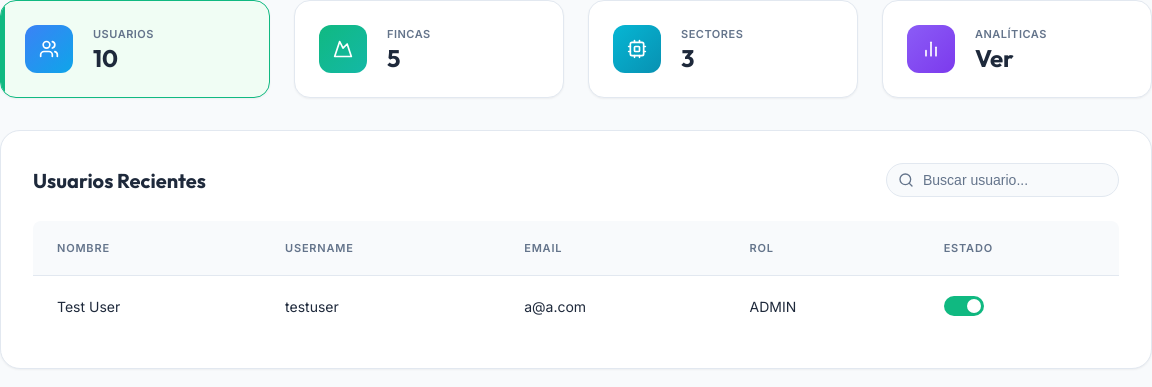
Scenario: Dashboard Page Component › should show Sectors table when clicking Sectors KPI
The width and height of the screenshot is (1152, 387).
Expected: the heading "Usuarios Recientes" is shown, [33,168,206,192]
Click the button "Sectores 3" at (712, 34), box [588,0,858,98]
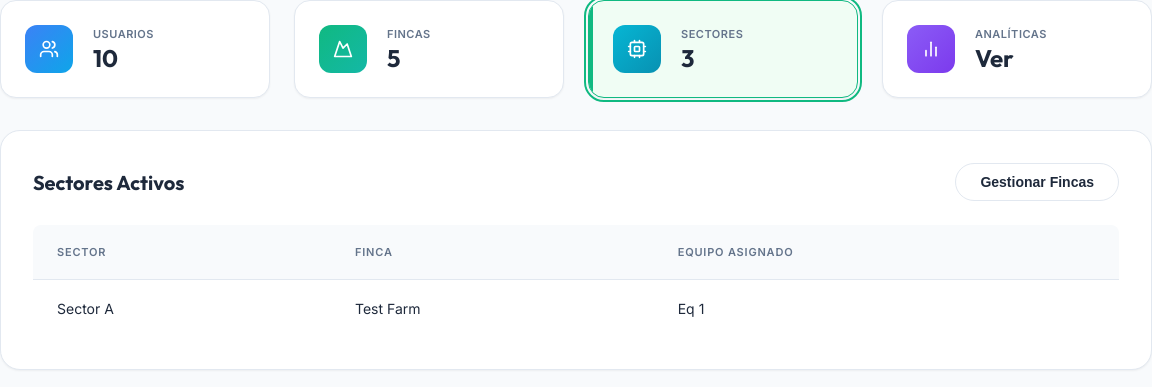
Now the heading "Sectores Activos" is shown, box [33,170,184,194]
Now the text "Sector A" is shown, box [33,280,331,337]
